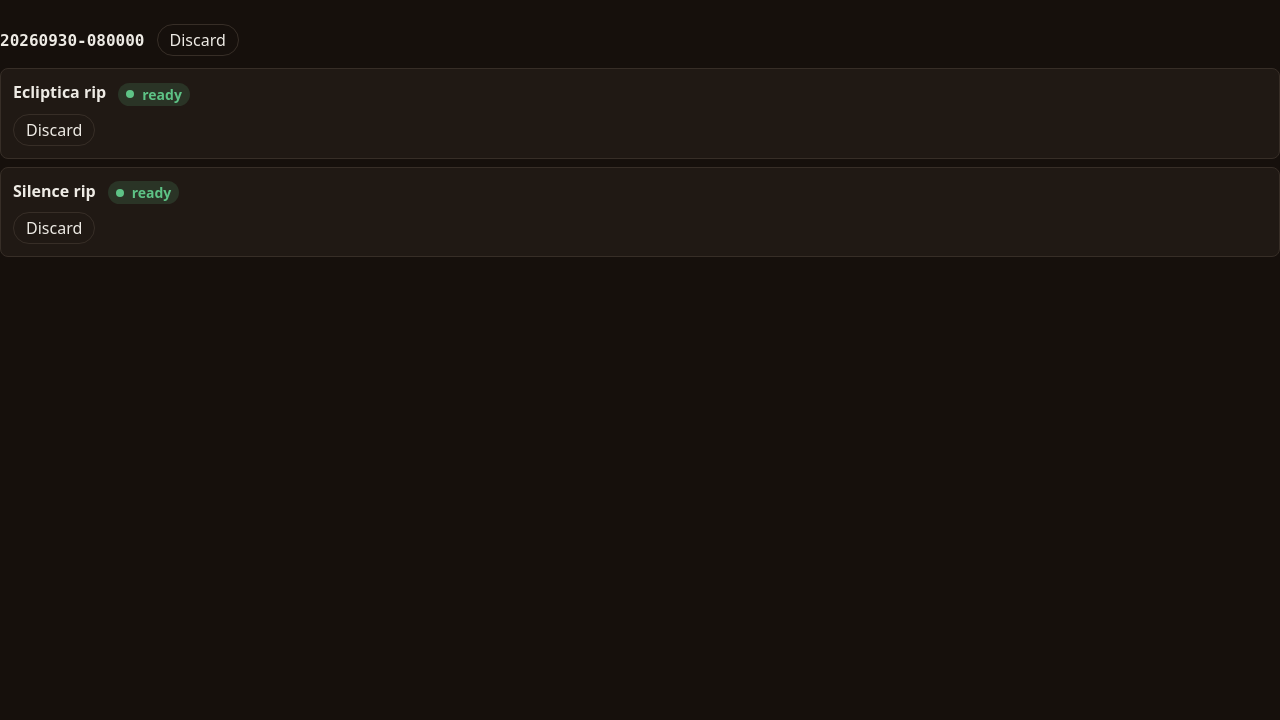
Drops › discards one album by posting its discard, then shows the list without it
This screenshot has width=1280, height=720.
Click the button "Discard" below "Ecliptica rip" at (54, 130), box 13,114 -> 95,146
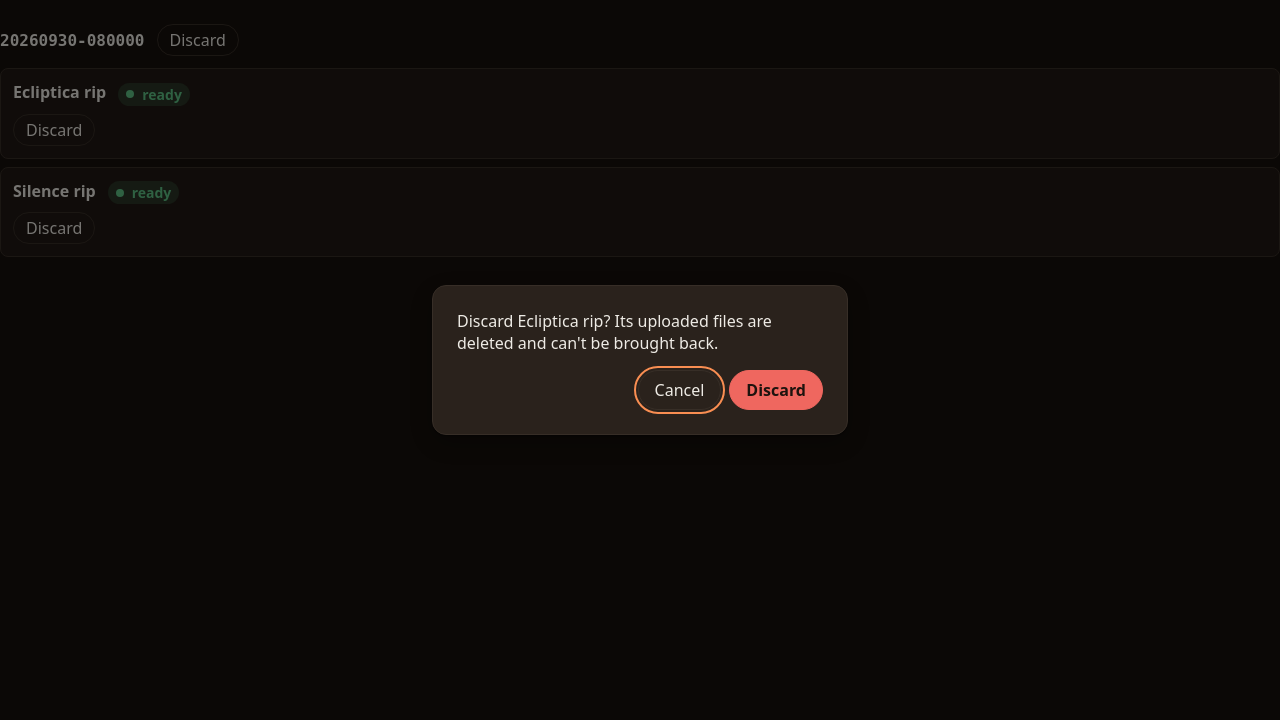
Result: the dialog shows "Discard Ecliptica rip?" at 457,310 -> 772,354
Click the button "Discard" at (776, 390), box 729,370 -> 823,410
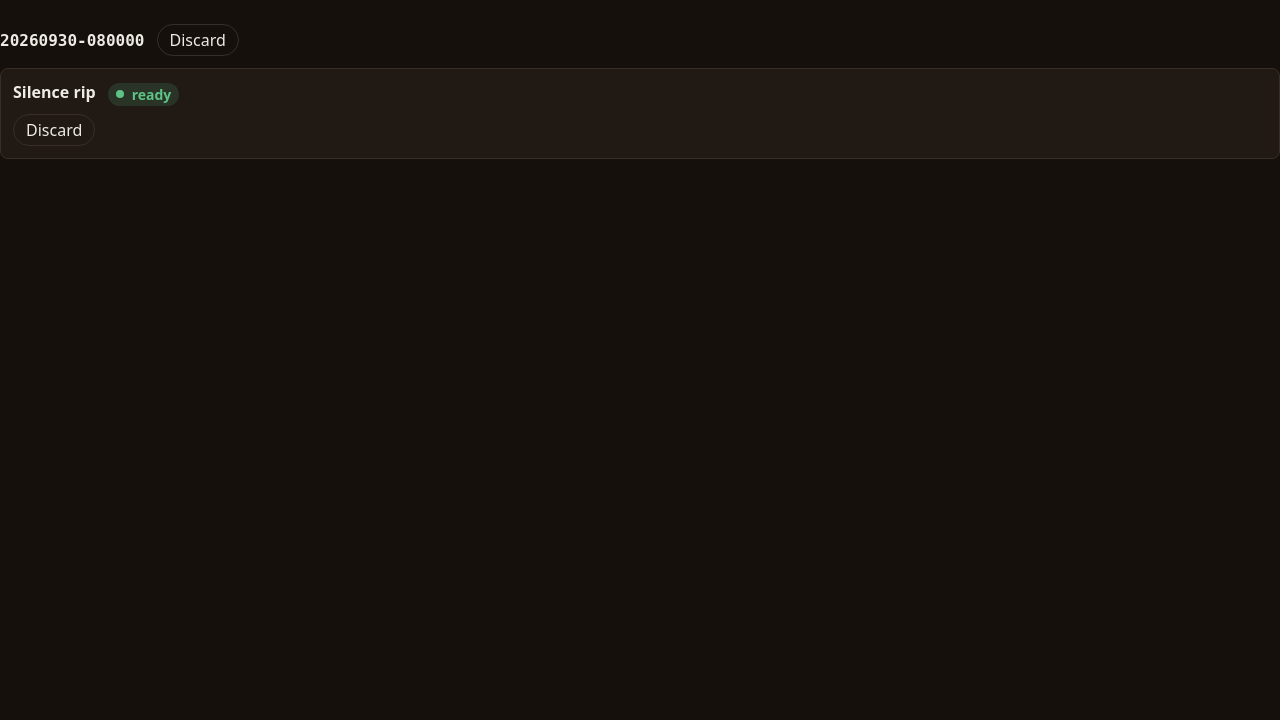
Expected: the link "Silence rip" is shown, 13,81 -> 96,103
Result: the link "Ecliptica rip" is gone
